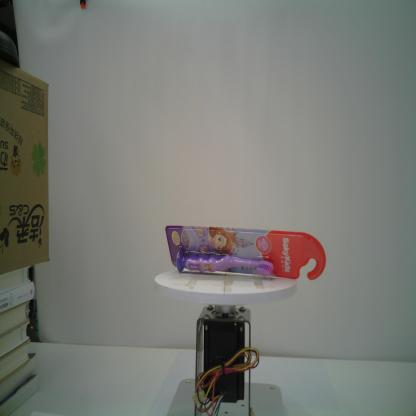Personal Hygiene: (165, 224, 326, 280)
